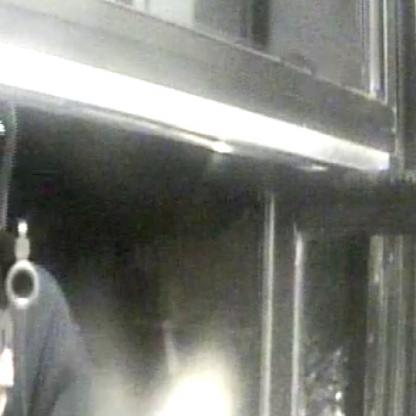gun: (0, 184, 45, 410)
